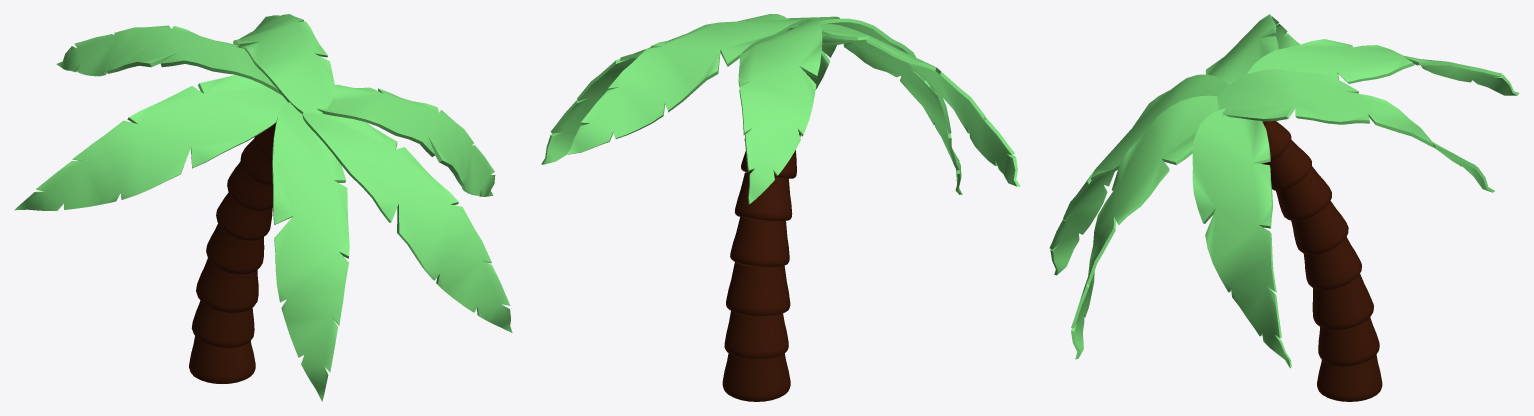
File: tree 2 test.fbx
3 renders of one model, left to right at view 1: azimuth 30°, elevation 25°; view 2: azimuth 150°, elevation 25°; view 3: azimuth 270°, elevation 25°, orthographic. The views are drawn at different scales.
Parts seen in each view (by area): view 1: Line001; view 2: Line001; view 3: Line001.
Part boxes in pixels (x1,y1,x2,y2): Line001: (14,14,512,401); Line001: (541,14,1020,401); Line001: (1049,14,1519,401).
Bounding box in the file's own units: 129 × 86.68 × 113.
